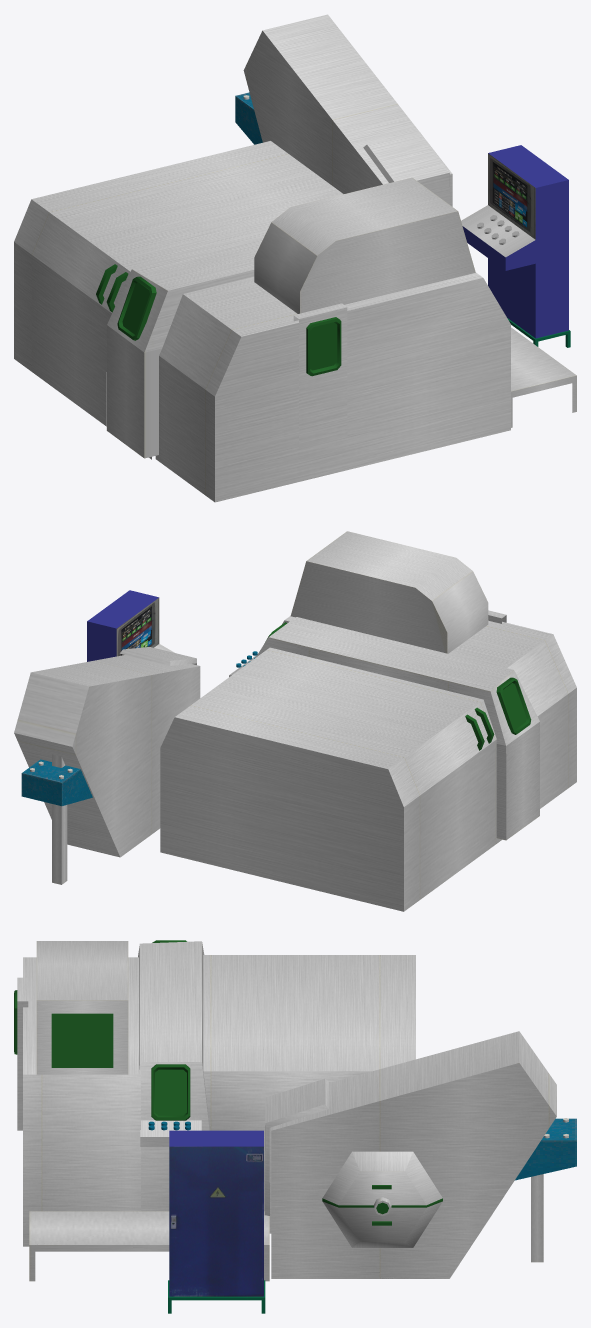
3 renders of one model, top to bottom at view 1: azimuth 30°, elevation 25°; view 2: azimuth 150°, elevation 25°; view 3: azimuth 270°, elevation 25°, orthographic. The views are drawn at different scales.
Visible parts, largest first — view 1: 500lashenji01; view 2: 500lashenji01; view 3: 500lashenji01.
Part boxes in pixels (x1,y1,x2,y2): 500lashenji01: [14, 14, 576, 502]; 500lashenji01: [14, 531, 576, 911]; 500lashenji01: [14, 940, 576, 1313].
Bounding box in the file's own units: 6.32 × 3.1 × 6.98.
Materials: 8 (5 with a texture image).
